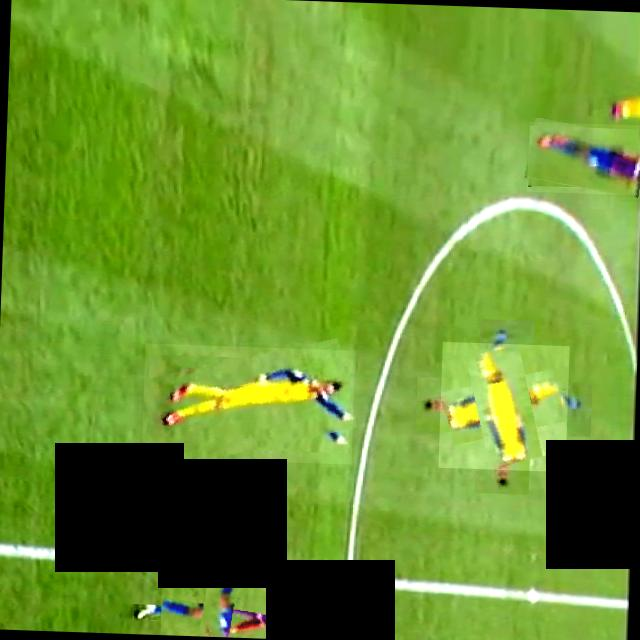soccer-player: (141, 342, 355, 463), (438, 340, 569, 470), (160, 560, 280, 638), (527, 120, 640, 194)
